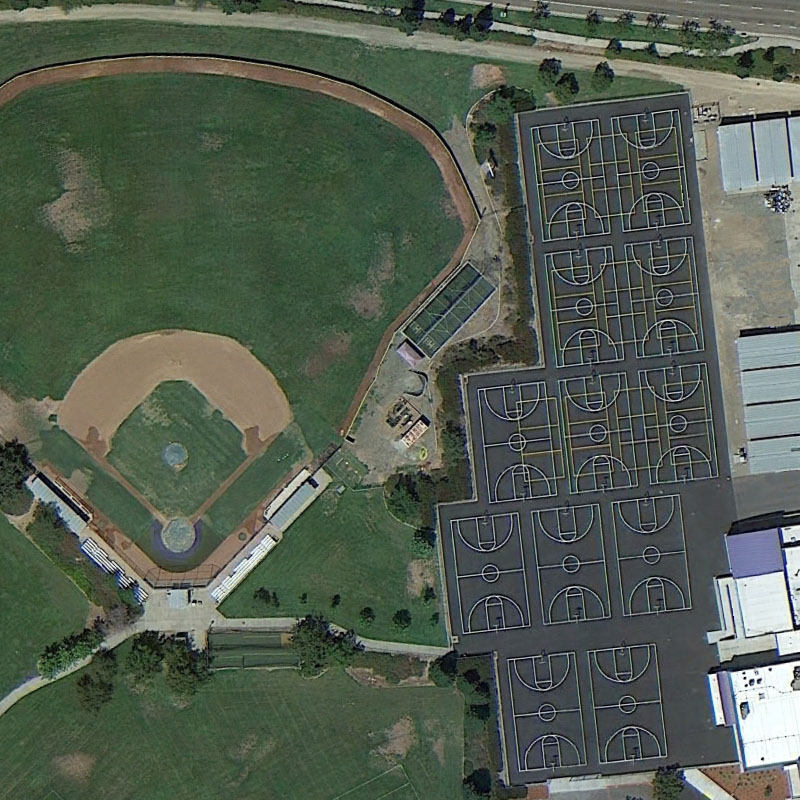baseballfield: (57, 330, 292, 553)
basketballcourt: (531, 118, 611, 243), (545, 245, 625, 368), (450, 512, 531, 633), (478, 381, 558, 503), (559, 374, 640, 493), (639, 363, 719, 483), (613, 494, 691, 616), (531, 503, 610, 623), (614, 109, 691, 232), (589, 643, 667, 763), (507, 652, 586, 770), (629, 237, 704, 356)
